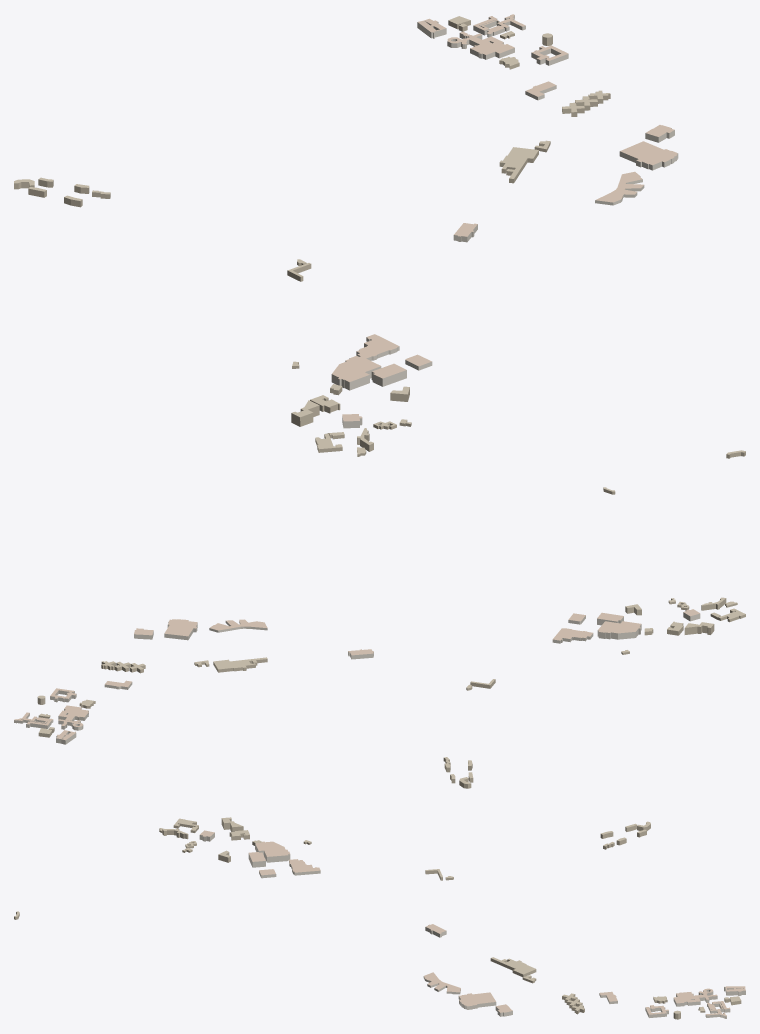
3 views of the same model, one above another, from view 1: azimuth 30°, elevation 25°; view 2: azimuth 150°, elevation 25°; view 3: azimuth 270°, elevation 25° (orthographic). The views are drawn at different scales.
Bounding box in the file's own units: 1573 × 38.64 × 2425.
